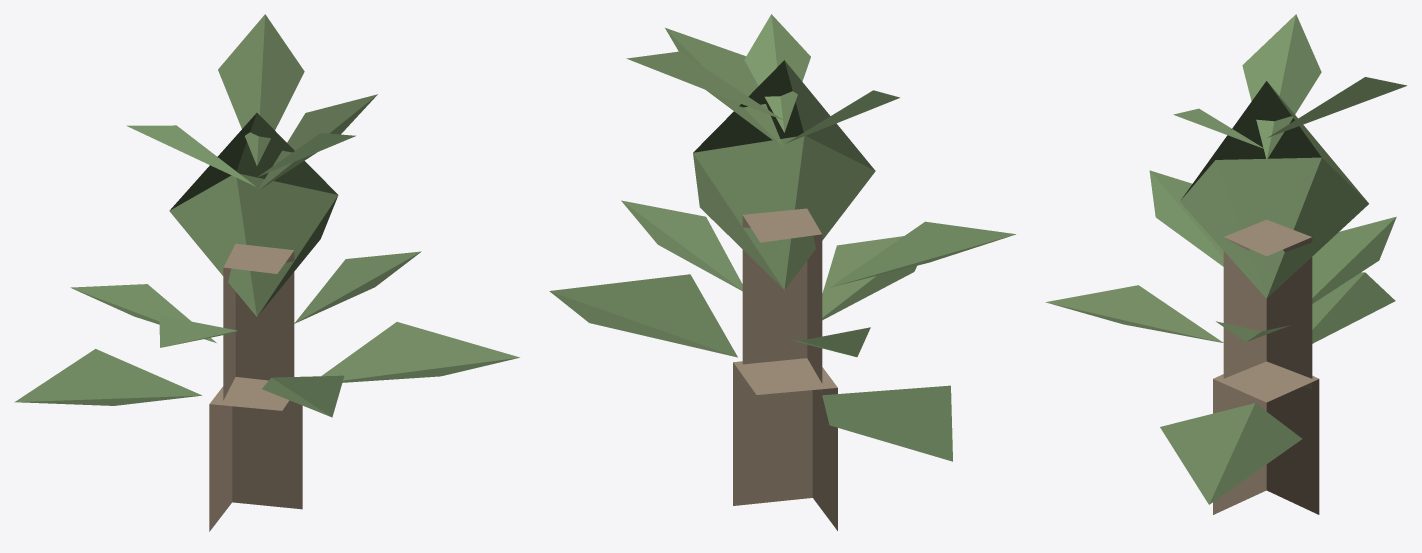
Rendered from guan.zhizi@seedling__summer.glb.
The picture shows the model from 3 angles, left to right: view 1: azimuth 30°, elevation 25°; view 2: azimuth 150°, elevation 25°; view 3: azimuth 270°, elevation 25°; orthographic projection. The views are drawn at different scales.
Visible parts, largest first — view 1: guan.zhizi@seedling__summer; view 2: guan.zhizi@seedling__summer; view 3: guan.zhizi@seedling__summer.
Boxes of the visible parts, <box> form: guan.zhizi@seedling__summer: <box>14,14,519,531</box>; guan.zhizi@seedling__summer: <box>549,14,1015,530</box>; guan.zhizi@seedling__summer: <box>1045,14,1406,514</box>.
Size of the model in its own units: 0.1548 by 0.1503 by 0.1055.
